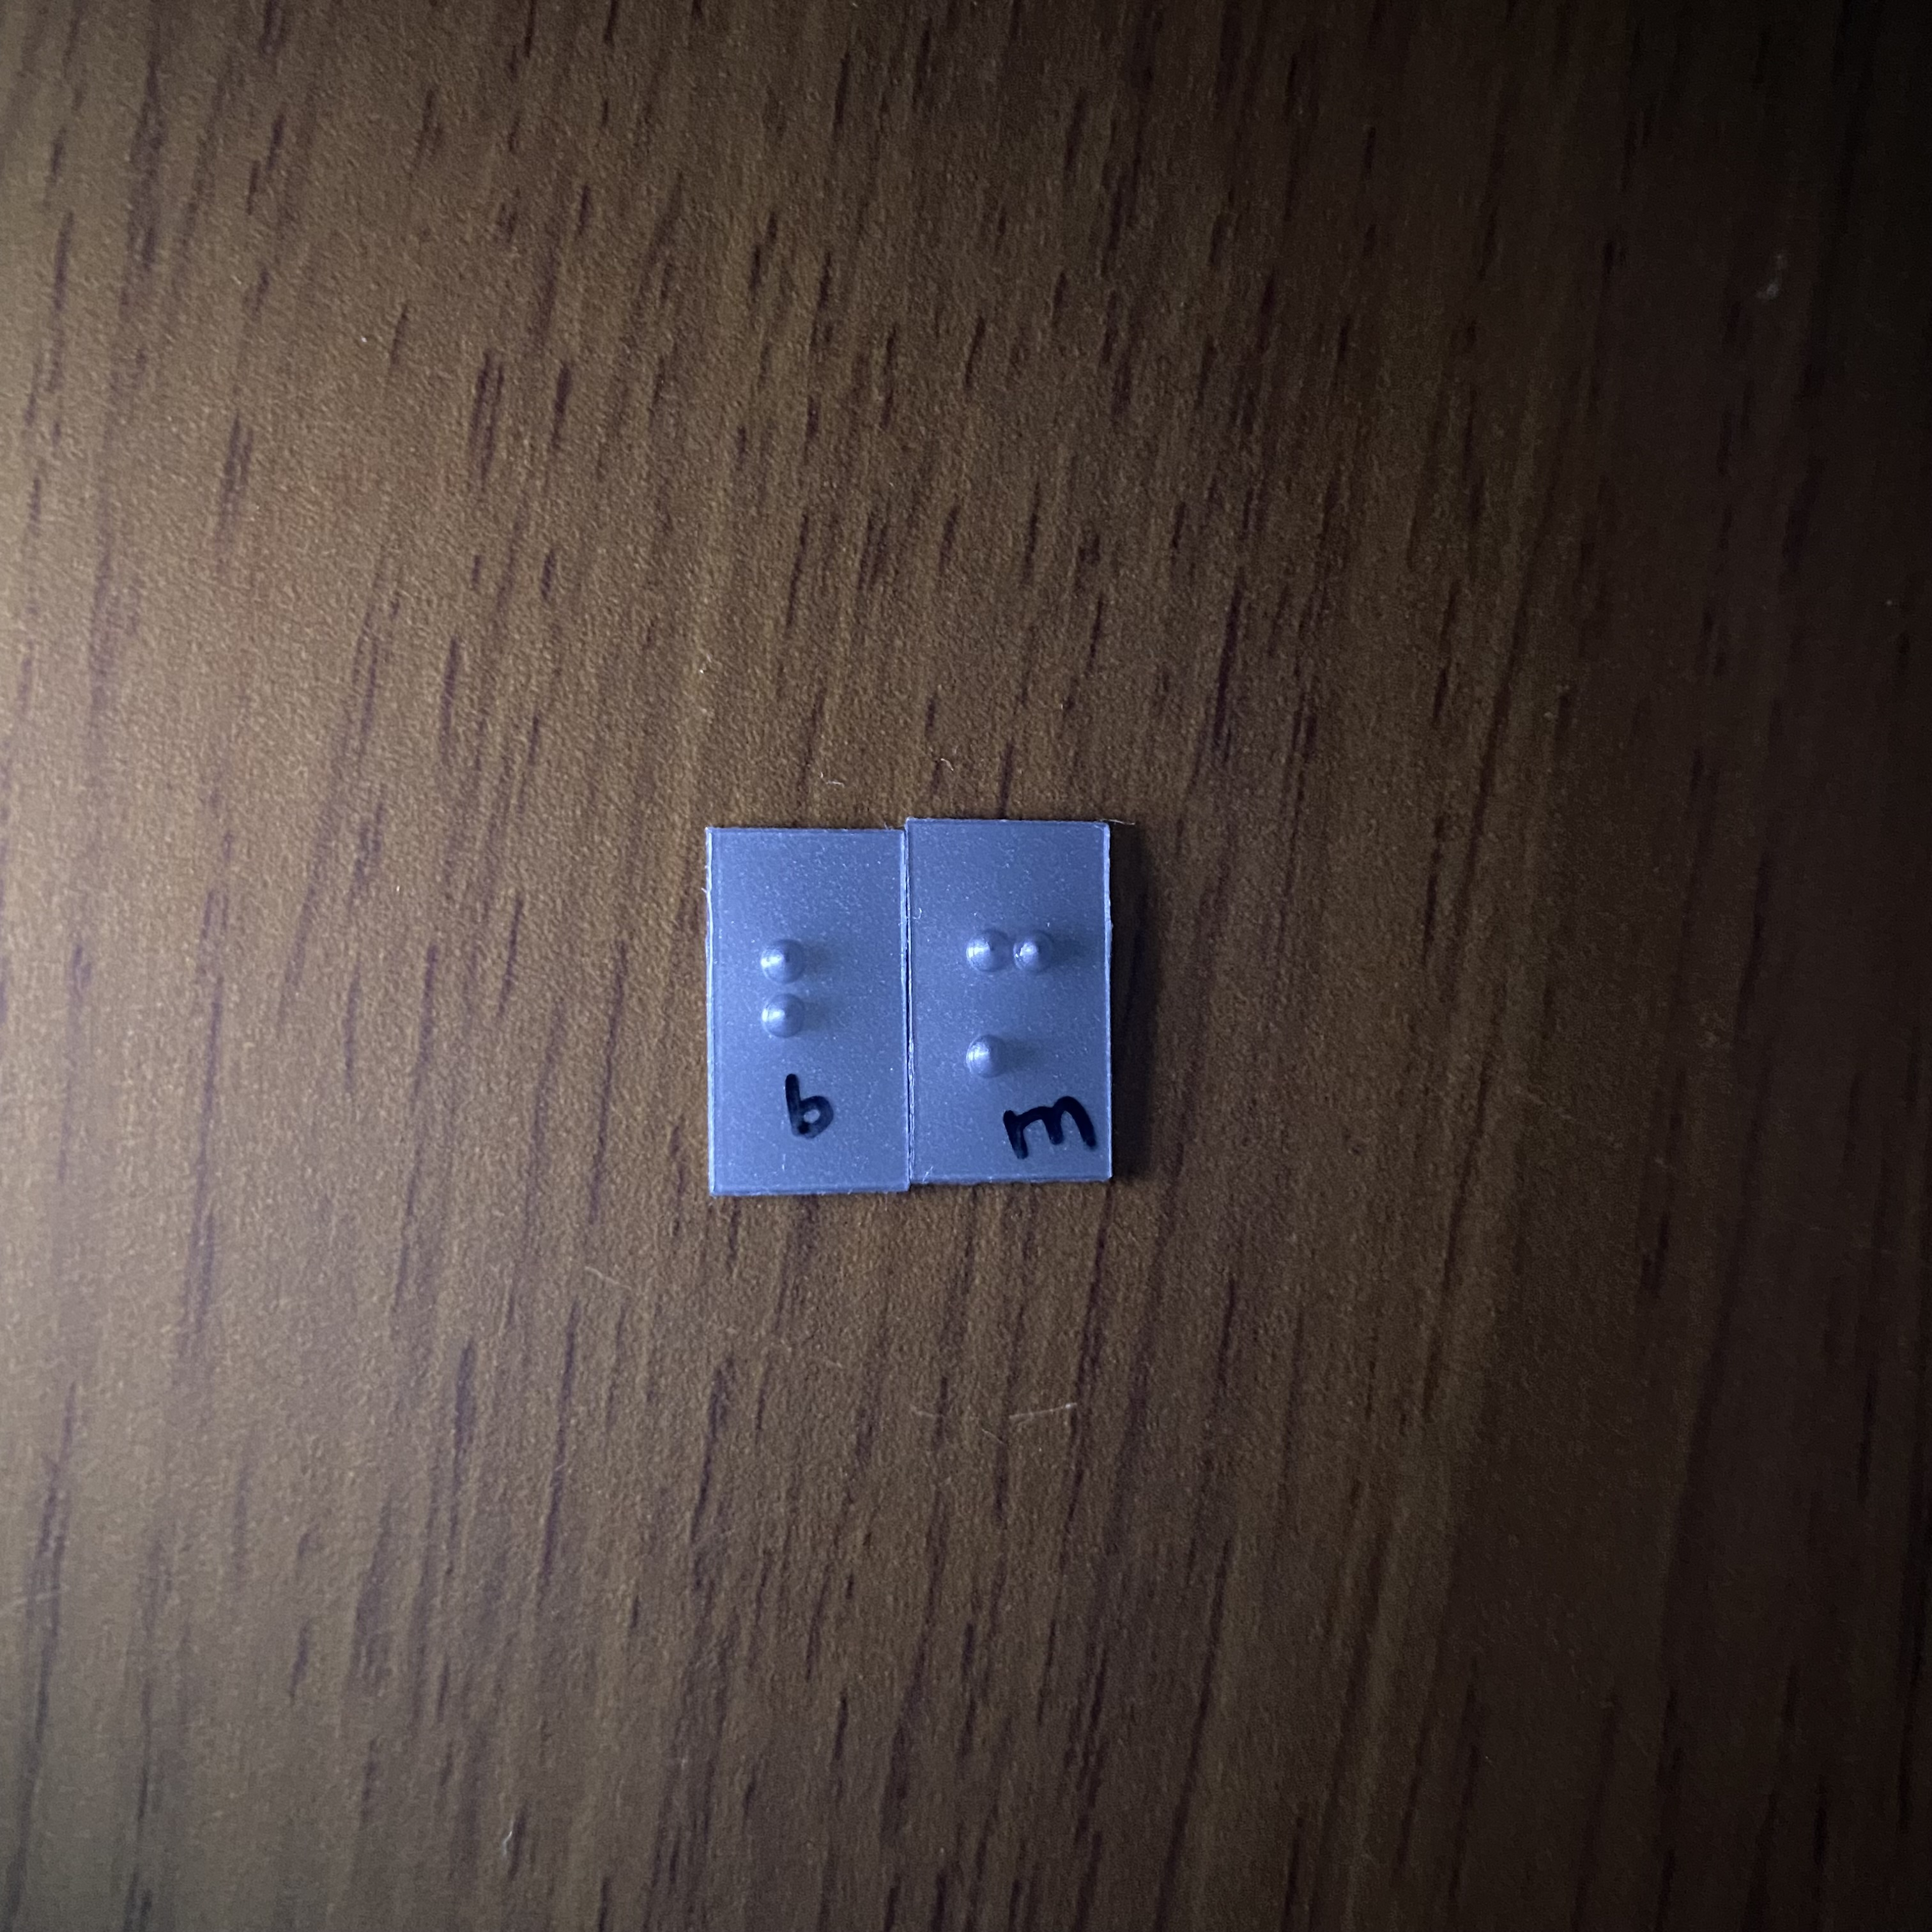b: (749, 916, 875, 1101)
m: (952, 914, 1082, 1092)
